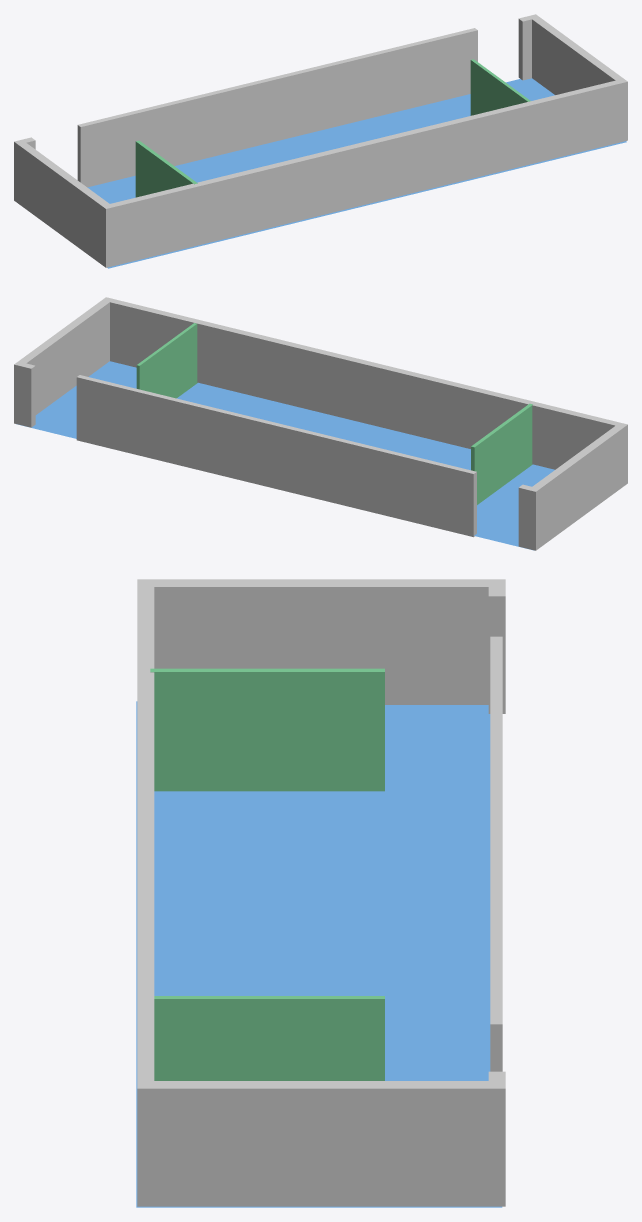
Rendered from fangzi.FBX.
The picture shows the model from 3 angles, top to bottom: view 1: azimuth 30°, elevation 25°; view 2: azimuth 150°, elevation 25°; view 3: azimuth 270°, elevation 25°; orthographic projection. The views are drawn at different scales.
Parts seen in each view (by area): view 1: Rectangle002, Box003, Plane001, Box002, Box001; view 2: Rectangle002, Box003, Plane001, Box002, Box001; view 3: Rectangle002, Plane001, Box002, Box001, Box003.
Boxes of the visible parts, x1,y1,x2,y2 form: Rectangle002: (14,14,627,267); Box003: (77,28,477,187); Plane001: (87,78,626,268); Box002: (135,140,197,197); Box001: (470,59,530,115); Rectangle002: (14,297,627,550); Box003: (76,375,476,537); Plane001: (16,361,554,550); Box002: (471,403,532,504); Box001: (136,323,197,398); Rectangle002: (137,579,505,1206); Plane001: (136,701,502,1207); Box002: (150,668,384,791); Box001: (154,996,384,1080); Box003: (490,636,502,1071).
Bounding box in the file's own units: 3244 × 375 × 994.
